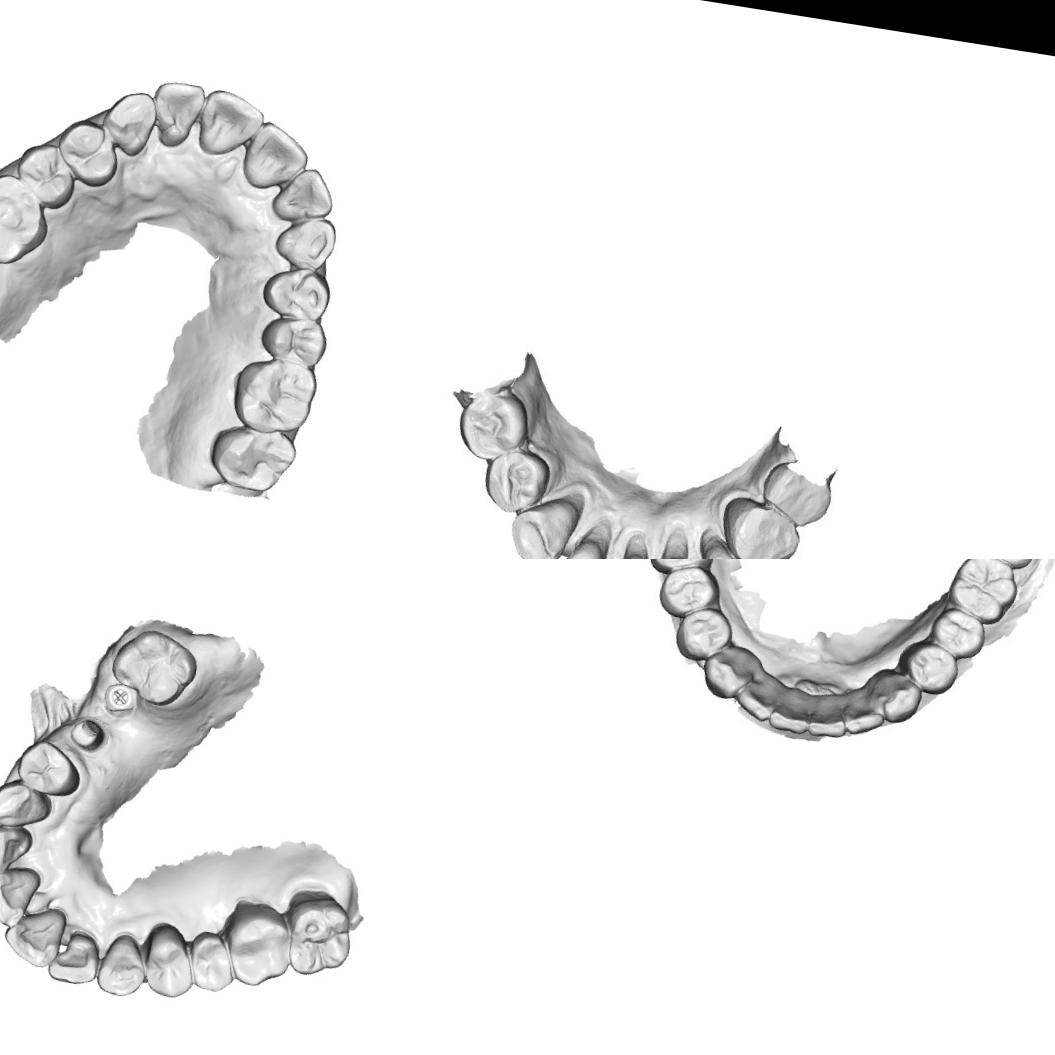abutment: (67, 713, 111, 755)
canine: (268, 207, 342, 277), (98, 84, 164, 162), (93, 929, 152, 1000), (868, 664, 929, 728), (0, 774, 55, 832), (696, 645, 751, 702)
crown: (716, 494, 805, 559)
implant_plus: (101, 680, 141, 716)
incisor: (192, 84, 270, 166), (239, 115, 314, 196), (508, 488, 586, 559), (268, 159, 339, 230), (0, 900, 69, 970), (148, 75, 207, 152), (46, 930, 102, 988), (729, 664, 783, 724), (764, 679, 818, 738), (842, 682, 890, 744), (553, 510, 613, 559), (0, 861, 42, 931), (802, 688, 852, 742), (690, 527, 755, 559), (648, 525, 708, 559), (0, 822, 35, 879), (609, 532, 665, 559)
molar: (225, 351, 322, 439), (106, 624, 202, 712), (215, 897, 299, 991), (205, 419, 300, 498), (279, 891, 357, 981), (762, 448, 840, 530), (0, 168, 56, 270), (942, 559, 1023, 626), (458, 387, 528, 462), (638, 559, 721, 579)
premolar: (52, 116, 126, 192), (12, 136, 82, 213), (257, 259, 336, 326), (482, 443, 550, 519), (140, 919, 202, 1001), (13, 736, 86, 800), (652, 561, 725, 625), (256, 309, 331, 371), (670, 601, 736, 668), (924, 605, 990, 664), (900, 638, 963, 699), (184, 928, 240, 994)
